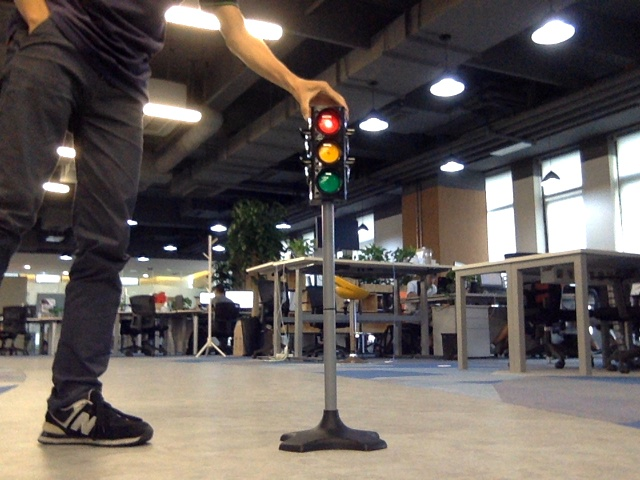red: (310, 113, 342, 193)
